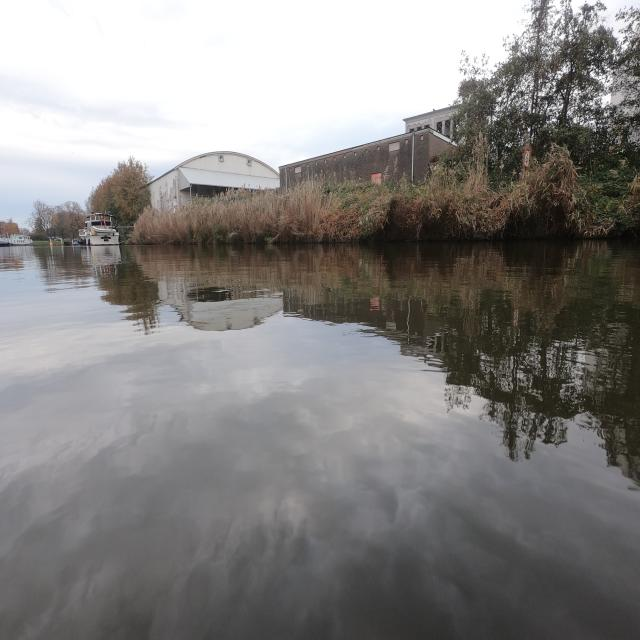boat: (79, 214, 119, 246)
reed: (108, 162, 534, 244)
sky: (8, 4, 526, 202)
tree: (457, 0, 620, 175)
water: (0, 239, 640, 640)
